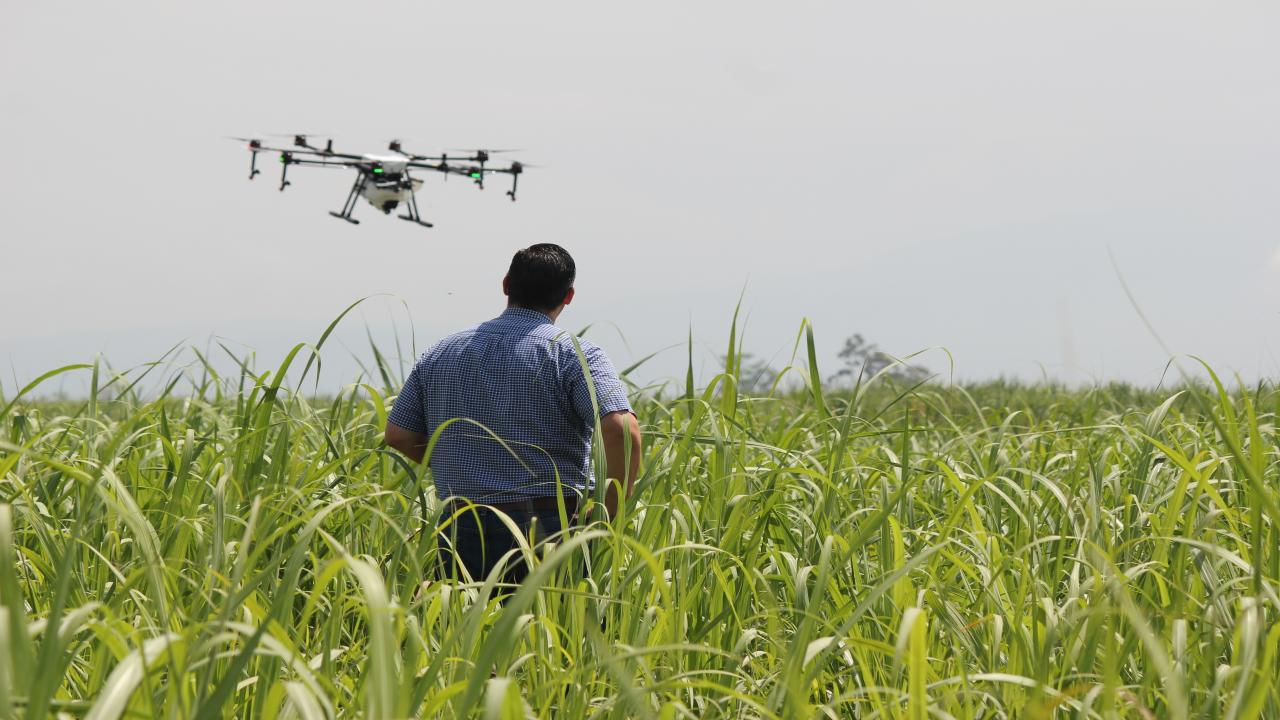Drone: (213, 118, 560, 236)
